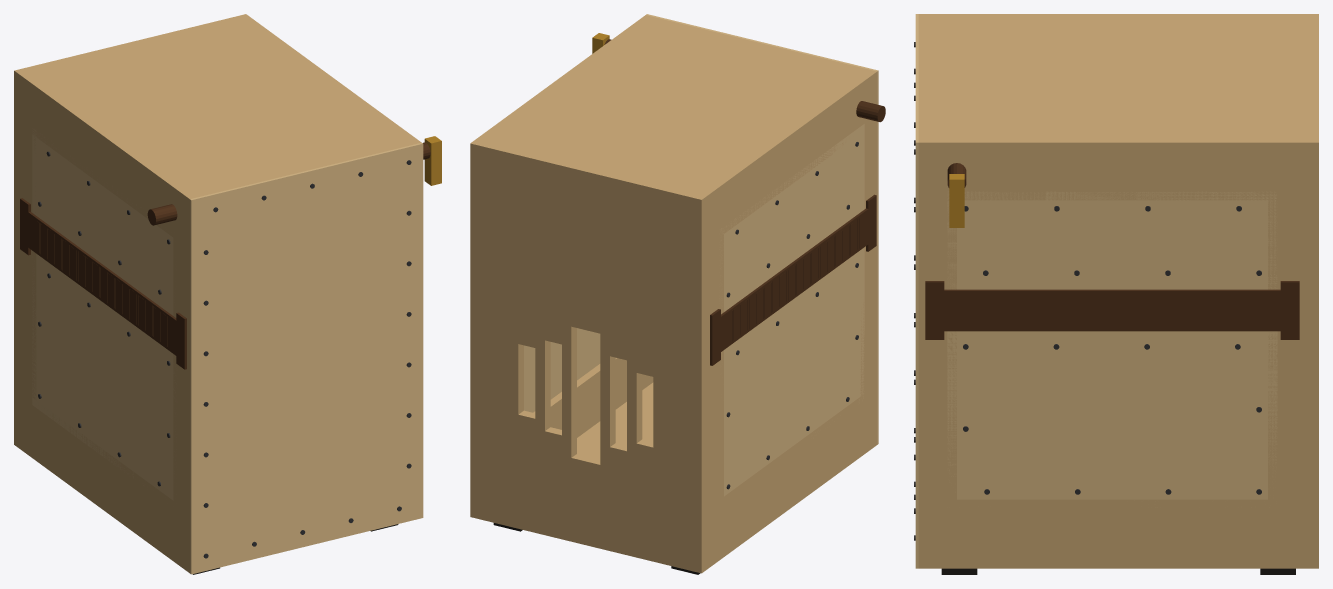
Rendered from be-better-cajon.obj.
3 renders of one model, left to right at view 1: azimuth 30°, elevation 25°; view 2: azimuth 150°, elevation 25°; view 3: azimuth 270°, elevation 25°, orthographic. The views are drawn at different scales.
Parts seen in each view (by area): view 1: tapa_front, panel_top, side_L, tapa_side_low_L, tapa_side_high_L, guiro_rail_L, side_R, panel_back, boxjoint_L_side, boxjoint_L_back, screws, snare_lever (+1 smaller); view 2: panel_back, panel_top, side_L, tapa_side_low_L, tapa_side_high_L, guiro_rail_L, side_R, boxjoint_L_side, boxjoint_L_back, tapa_side_low_R, boxjoint_R_side, boxjoint_R_back (+2 smaller); view 3: side_R, tapa_side_low_R, panel_top, tapa_side_high_R, guiro_rail_R, boxjoint_R_side, boxjoint_R_back, side_L, tapa_front, panel_back, snare_lever, screws.
Boxes of the visible parts, x1,y1,x2,y2 form: tapa_front: (190,142,423,574); panel_top: (30,20,411,196); side_L: (19,72,198,573); tapa_side_low_L: (32,254,176,500); tapa_side_high_L: (32,128,174,315); guiro_rail_L: (20,198,186,369); side_R: (242,18,421,144); panel_back: (24,16,241,72); boxjoint_L_side: (14,68,28,448); boxjoint_L_back: (14,81,19,438); screws: (38,151,411,558); snare_lever: (424,136,441,185); panel_back: (479,142,697,570); panel_top: (485,17,867,193); side_L: (698,69,877,568); tapa_side_low_L: (724,247,864,496); tapa_side_high_L: (719,124,864,311); guiro_rail_L: (710,194,876,365); side_R: (476,15,654,437); boxjoint_L_side: (692,193,707,573); boxjoint_L_back: (692,206,707,563); tapa_side_low_R: (524,328,600,412); boxjoint_R_side: (470,139,484,519); boxjoint_R_back: (470,153,479,508); side_R: (918,137,1306,568); tapa_side_low_R: (947,331,1277,507); panel_top: (918,19,1306,137); tapa_side_high_R: (947,191,1277,289); guiro_rail_R: (925,281,1299,339); boxjoint_R_side: (1306,137,1318,568); boxjoint_R_back: (1306,154,1318,557); side_L: (918,14,1306,19); tapa_front: (915,14,918,568); panel_back: (1306,19,1318,137); snare_lever: (949,174,964,227); screws: (914,42,1261,540).
Bounding box in the file's own units: 14.82 × 19.1 × 15.94.
